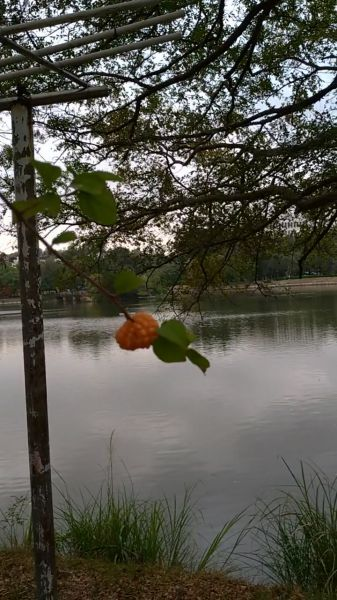eggs: (108, 304, 165, 362)
